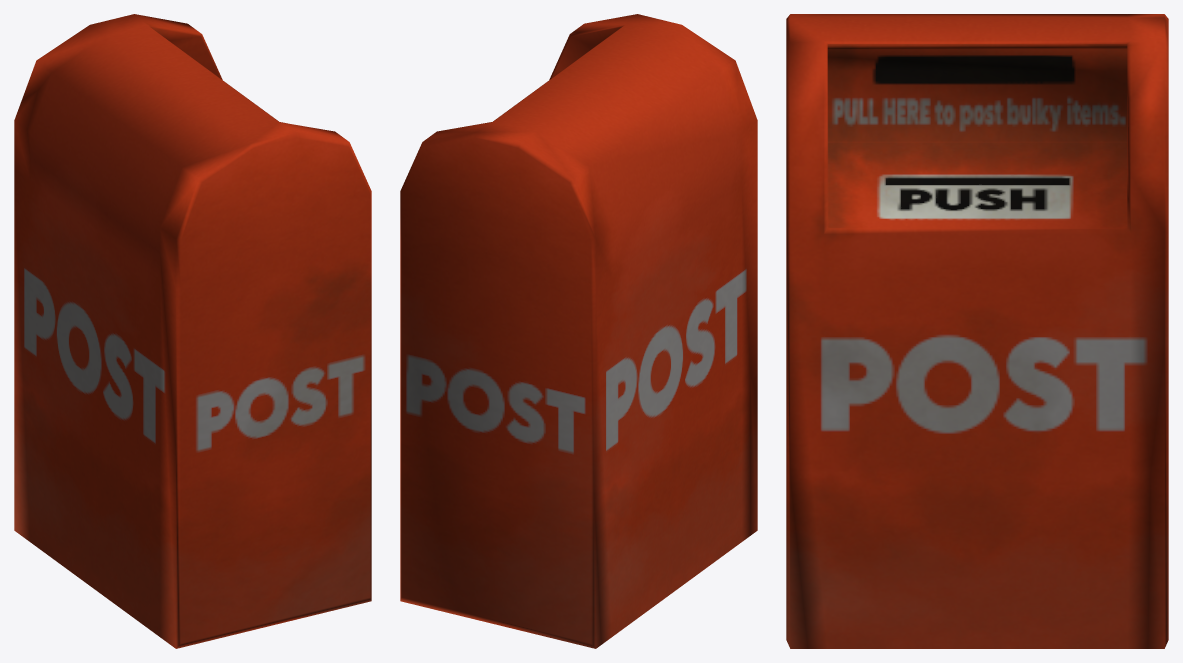
Rendered from o3_cassetta_postale.glb.
The picture shows the model from 3 angles, left to right: view 1: azimuth 30°, elevation 25°; view 2: azimuth 150°, elevation 25°; view 3: azimuth 270°, elevation 25°; orthographic projection. The views are drawn at different scales.
Parts seen in each view (by area): view 1: sb_modello; view 2: sb_modello; view 3: sb_modello.
Boxes of the visible parts, x1,y1,x2,y2 form: sb_modello: (14,14,371,648); sb_modello: (400,14,757,648); sb_modello: (786,14,1168,648).
Size of the model in its own units: 0.4618 by 1.1 by 0.6756.
1 material, 1 textured.
